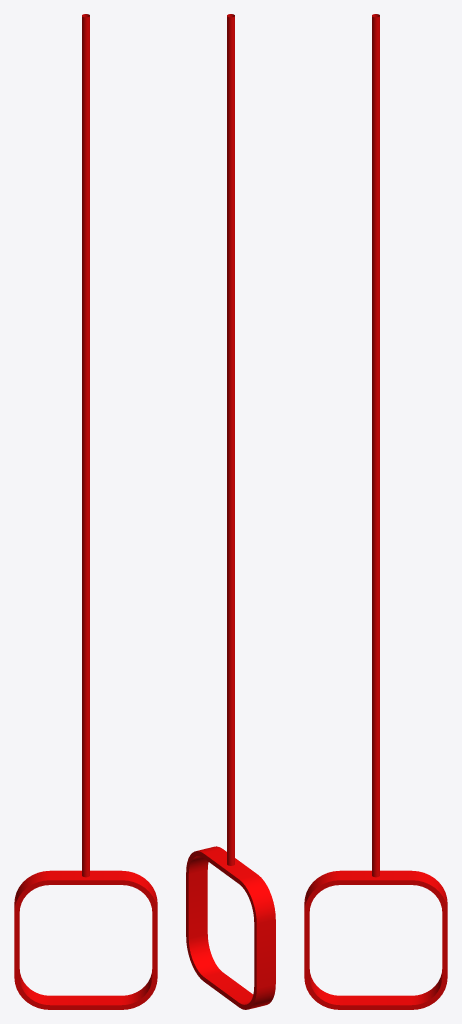
Rendered from cutter1_roundcube.fbx.
3 views of the same model, side by side, from view 1: azimuth 90°, elevation 25°; view 2: azimuth 210°, elevation 25°; view 3: azimuth 270°, elevation 25° (orthographic).
Visible parts, largest first — view 1: Cutter1_Roundcube; view 2: Cutter1_Roundcube; view 3: Cutter1_Roundcube.
Boxes of the visible parts, x1,y1,x2,y2 form: Cutter1_Roundcube: (14,14,157,1009); Cutter1_Roundcube: (186,14,275,1009); Cutter1_Roundcube: (304,14,447,1009).
Bounding box in the file's own units: 16.81 × 824 × 108.
